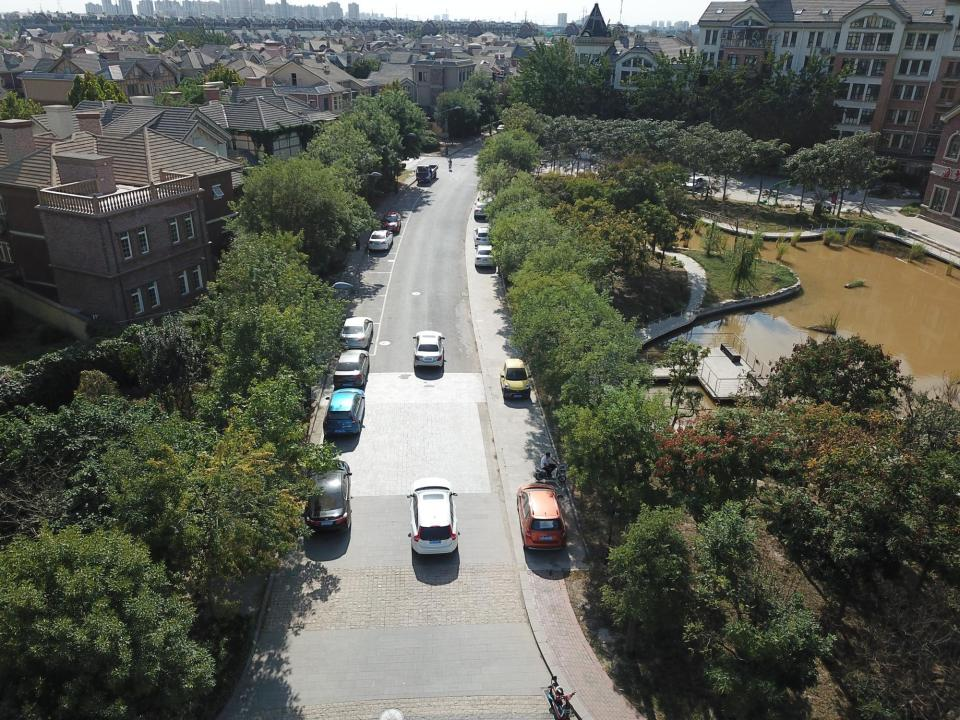car: (406, 478, 456, 556), (302, 459, 352, 530), (516, 483, 567, 549), (323, 388, 365, 436), (333, 350, 370, 388), (500, 358, 531, 398), (413, 330, 445, 368), (339, 317, 373, 349), (368, 230, 393, 250), (474, 245, 495, 266), (380, 212, 401, 232), (574, 148, 604, 162), (680, 176, 706, 192), (474, 226, 493, 246), (474, 201, 491, 219), (496, 125, 508, 133)
truck: (414, 164, 438, 182)
